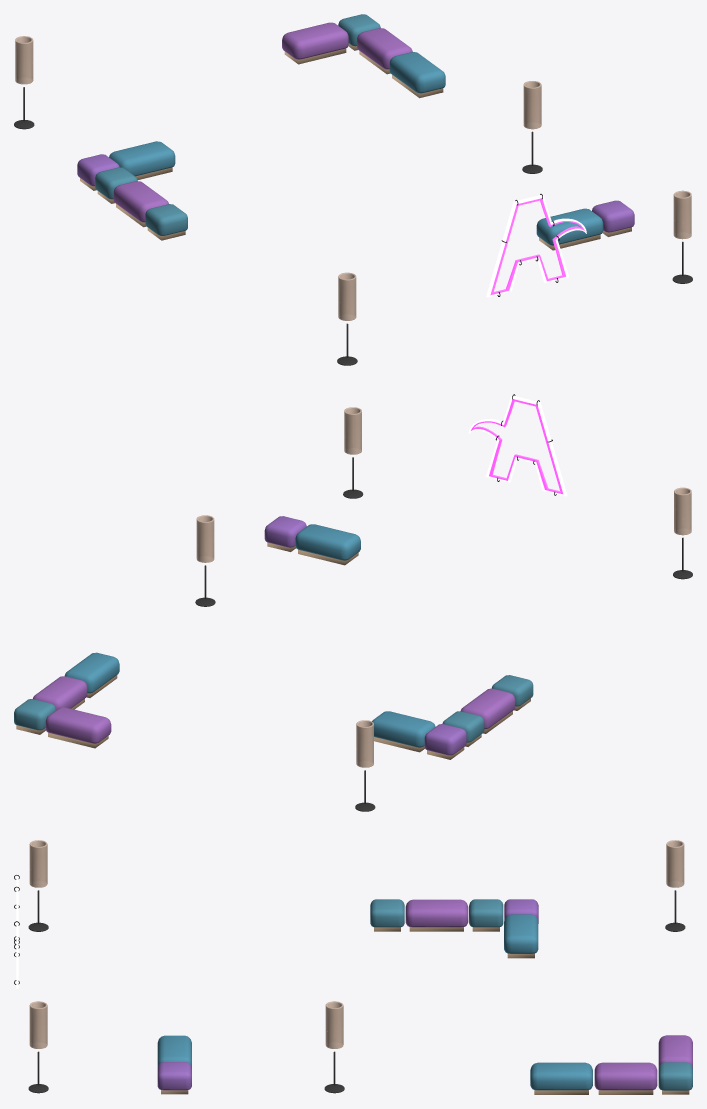
3 renders of one model, top to bottom at view 1: azimuth 30°, elevation 25°; view 2: azimuth 150°, elevation 25°; view 3: azimuth 270°, elevation 25°, orthographic.
Parts seen in each view (by area): view 1: Deko_2x3 arcade I; view 2: Deko_2x3 arcade I; view 3: Deko_2x3 arcade I.
Part boxes in pixels (box(x1,y1,x2,y2)): Deko_2x3 arcade I: box(14, 14, 692, 365); Deko_2x3 arcade I: box(14, 394, 692, 811); Deko_2x3 arcade I: box(14, 840, 692, 1094).
Bounding box in the file's own units: 7.91 × 2.68 × 12.78.
Materials: 7 (1 with a texture image).
